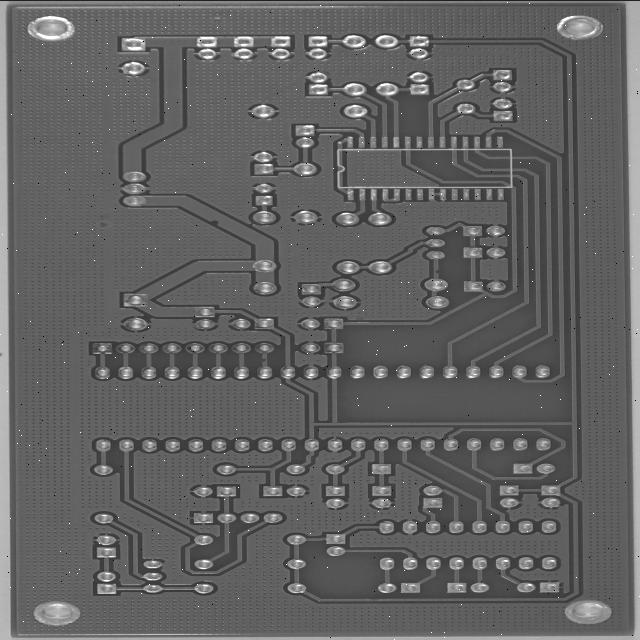mouse_bite: (247, 227, 275, 240), (315, 374, 335, 384), (527, 281, 543, 290)
